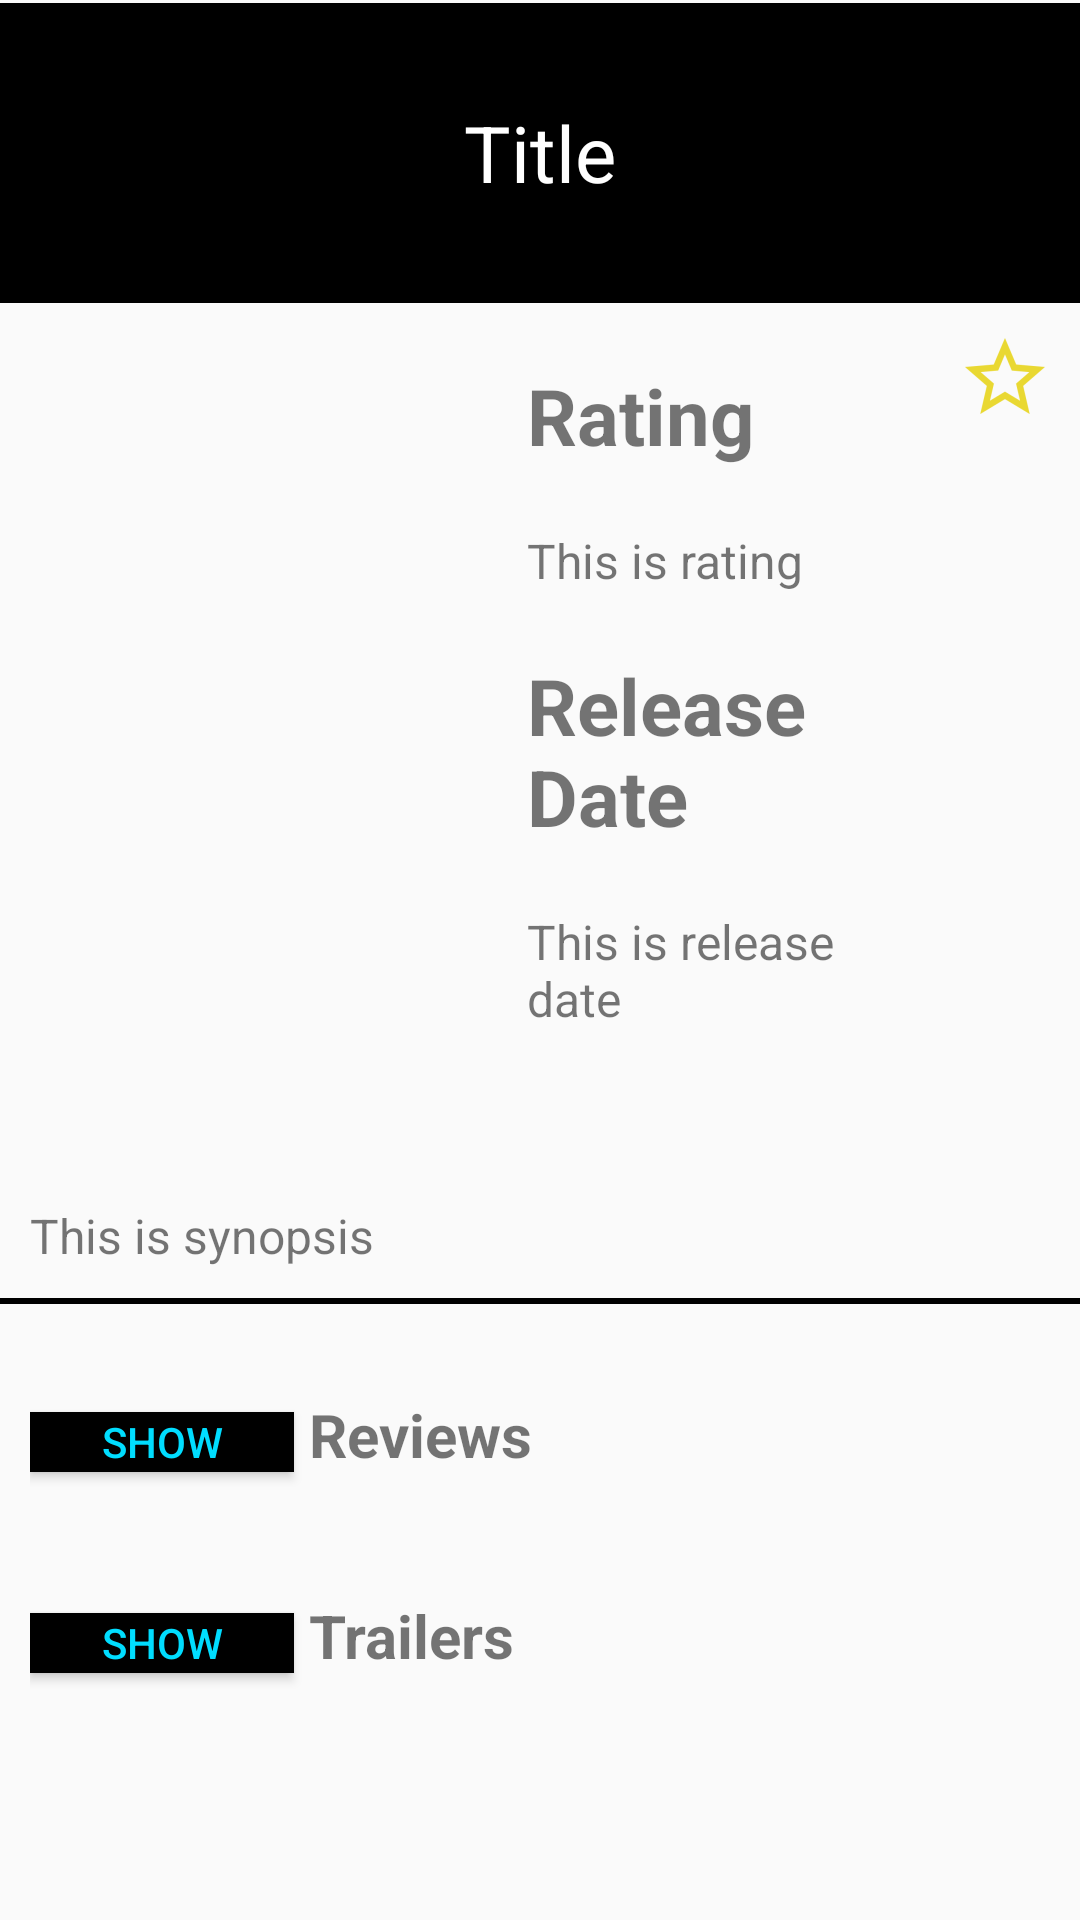

Where icons sit on this 1080 × 1920 app screen, as detection(x1, y1, x2, y2):
star empty: detection(965, 338, 1045, 414)
